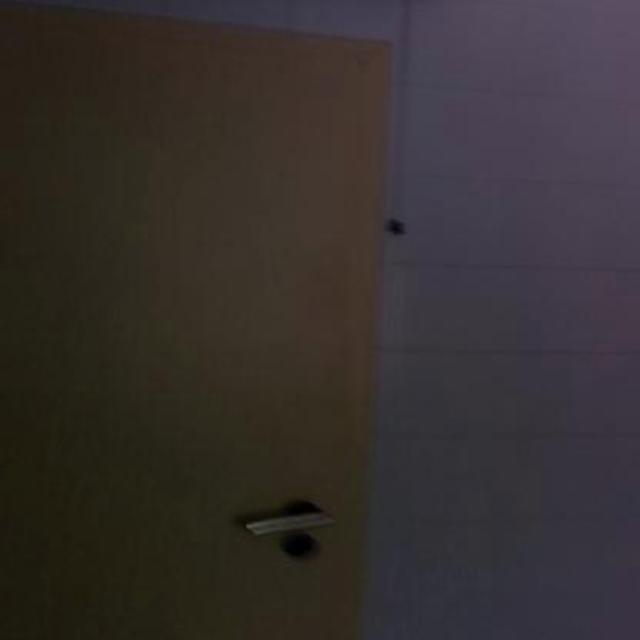door: (0, 0, 392, 638)
